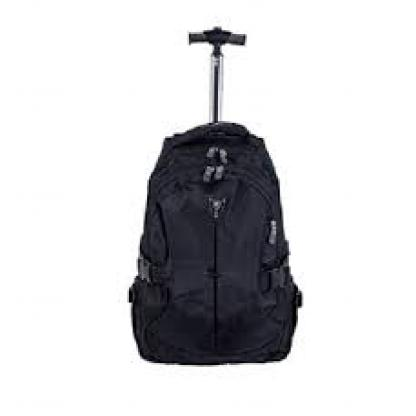morral: (116, 15, 322, 371)
